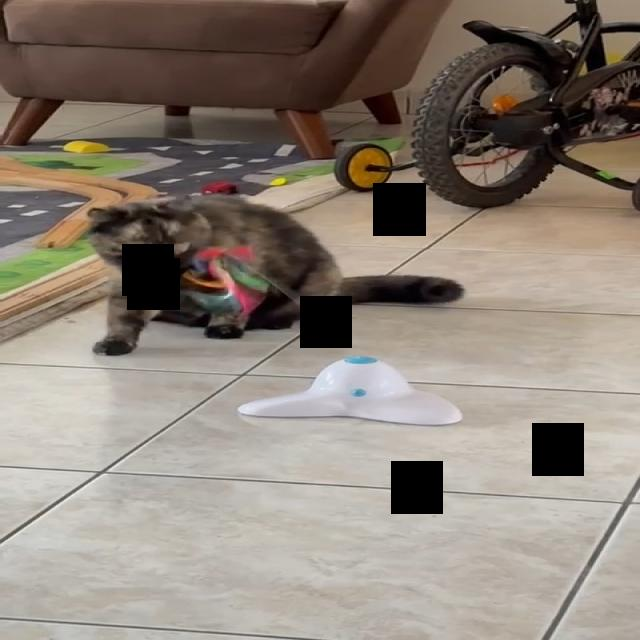authorized: (85, 192, 464, 356)
